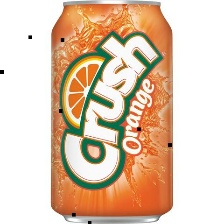can: (46, 0, 177, 223)
